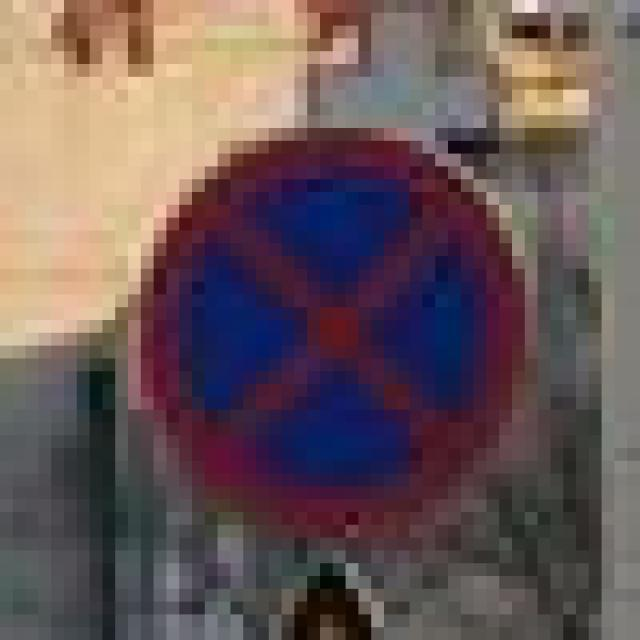no stopping or standing: (131, 127, 527, 527)
